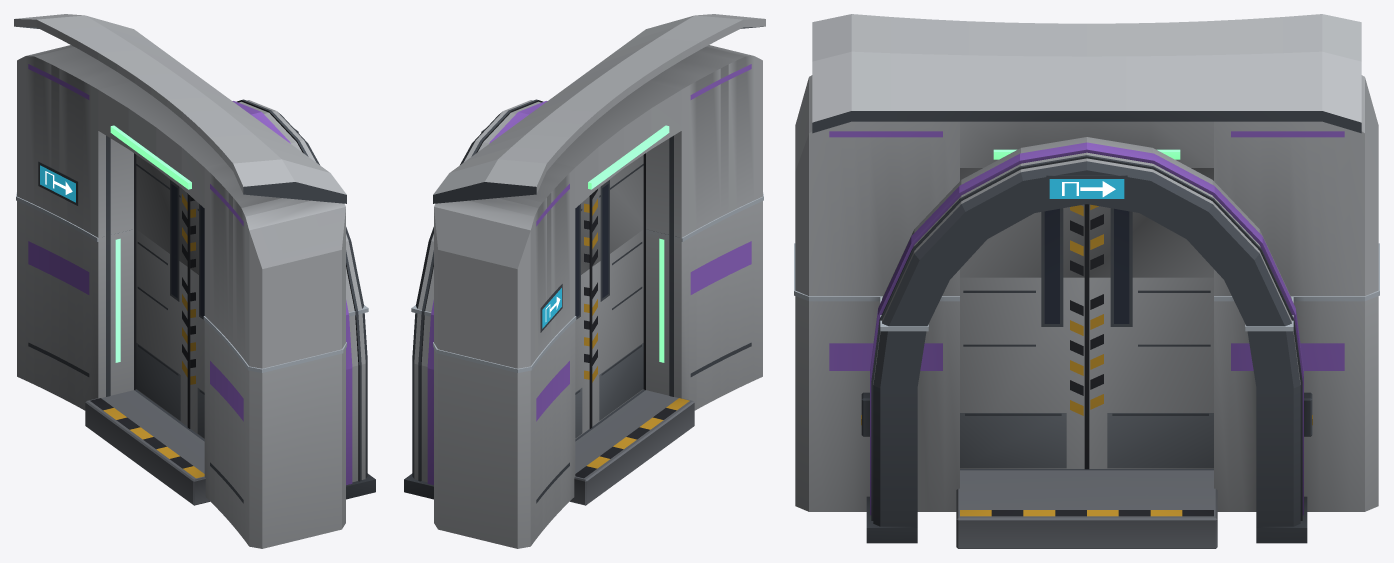
File: doorway_r775.glb
3 views of the same model, side by side, from view 1: azimuth 30°, elevation 25°; view 2: azimuth 150°, elevation 25°; view 3: azimuth 270°, elevation 25° (orthographic). The views are drawn at different scales.
Visible parts, largest first — view 1: FrameTop, Frame, DoorR, DoorRTop, DoorL, FrameCap, DoorLTop, Sign, Status, Lights; view 2: FrameTop, Frame, DoorL, DoorLTop, DoorR, FrameCap, DoorRTop, Status, Lights, Sign; view 3: FrameTop, Frame, DoorL, DoorR, DoorLTop, DoorRTop, Sign, FrameCap.
Boxes of the visible parts, x1,y1,x2,y2 form: FrameTop: [14, 14, 363, 368]; Frame: [17, 201, 375, 548]; DoorR: [136, 229, 188, 427]; DoorRTop: [136, 155, 188, 267]; DoorL: [188, 269, 204, 438]; FrameCap: [16, 192, 368, 372]; DoorLTop: [188, 195, 204, 279]; Sign: [38, 129, 298, 205]; Status: [110, 125, 191, 189]; Lights: [115, 238, 120, 362]; FrameTop: [416, 14, 765, 368]; Frame: [404, 201, 762, 548]; DoorL: [591, 229, 643, 427]; DoorLTop: [591, 155, 643, 267]; DoorR: [575, 269, 591, 438]; FrameCap: [411, 192, 763, 372]; DoorRTop: [575, 195, 591, 279]; Status: [588, 125, 669, 189]; Lights: [659, 238, 664, 362]; Sign: [481, 129, 562, 332]; FrameTop: [795, 14, 1378, 326]; Frame: [795, 296, 1378, 548]; DoorL: [960, 277, 1086, 469]; DoorR: [1087, 277, 1213, 469]; DoorLTop: [960, 168, 1086, 277]; DoorRTop: [1087, 168, 1213, 277]; Sign: [1046, 175, 1127, 201]; FrameCap: [794, 243, 1379, 331].
Size of the model in its own units: 1.26 by 2.93 by 3.46.
